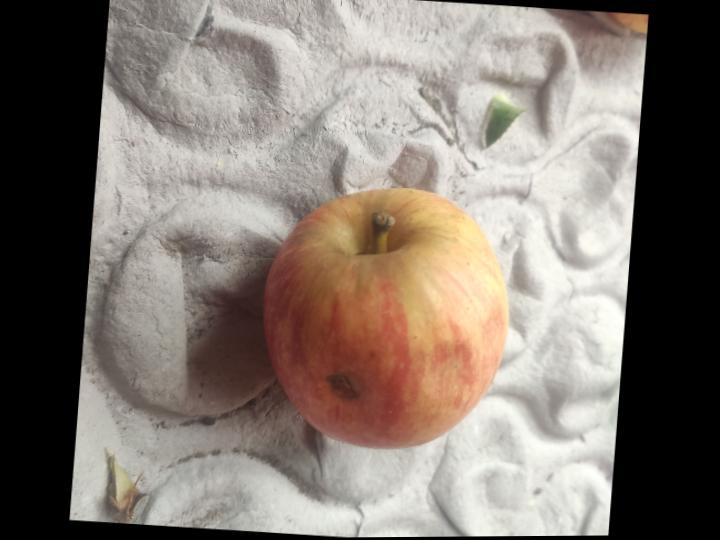apple: (262, 188, 506, 449)
surface_damage: (325, 372, 362, 401)
